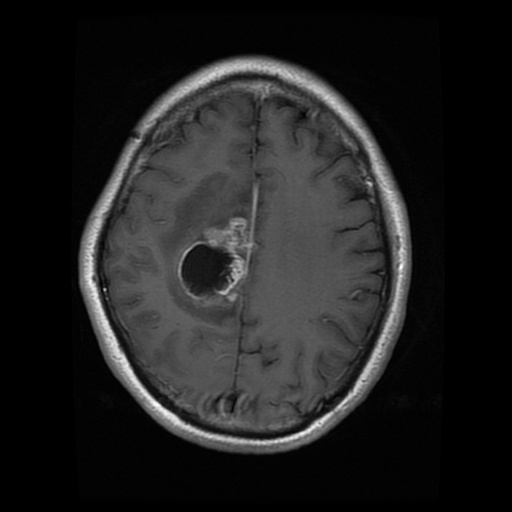glioma: (157, 159, 285, 325)
